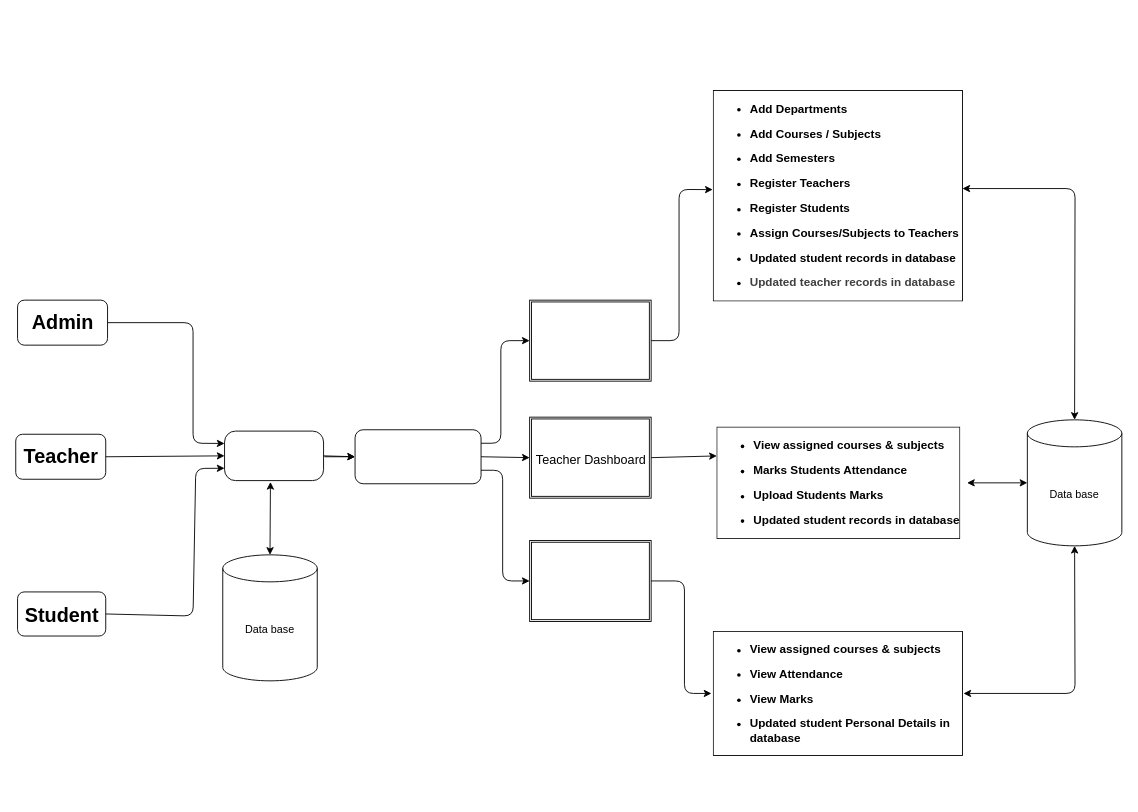
Some shapes in this 1138 by 812 pixel diagram are drawn without their labels. Each missing label, with the box of its shape:
Admin Dashboard: (529, 299, 651, 381)
Login: (224, 430, 324, 481)
Student Dashboard: (529, 540, 651, 621)
Validate the Users and give access to Dashboard: (354, 429, 481, 484)
